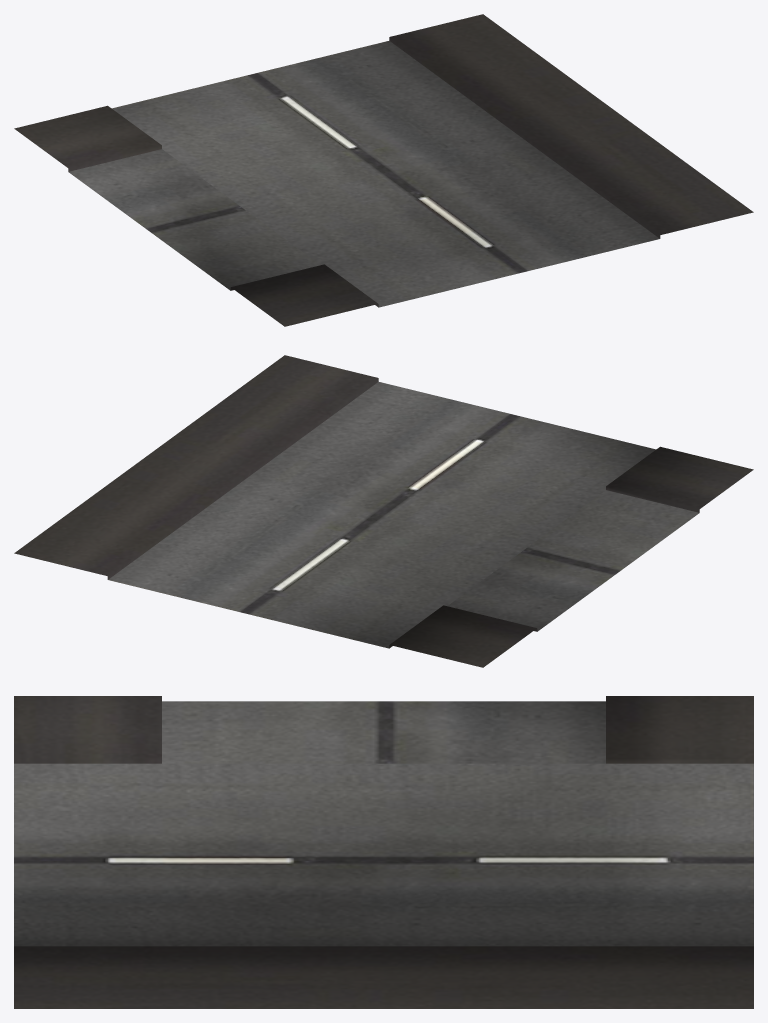
Rendered from road_t.fbx.
3 views of the same model, one above another, from view 1: azimuth 30°, elevation 25°; view 2: azimuth 150°, elevation 25°; view 3: azimuth 270°, elevation 25° (orthographic). The views are drawn at different scales.
Parts seen in each view (by area): view 1: Plane_001; view 2: Plane_001; view 3: Plane_001.
Part boxes in pixels (x1,y1,x2,y2): Plane_001: (14,14,753,326); Plane_001: (14,355,753,667); Plane_001: (14,696,753,1008).
Bounding box in the file's own units: 6.4 × 0.0482 × 6.4.
